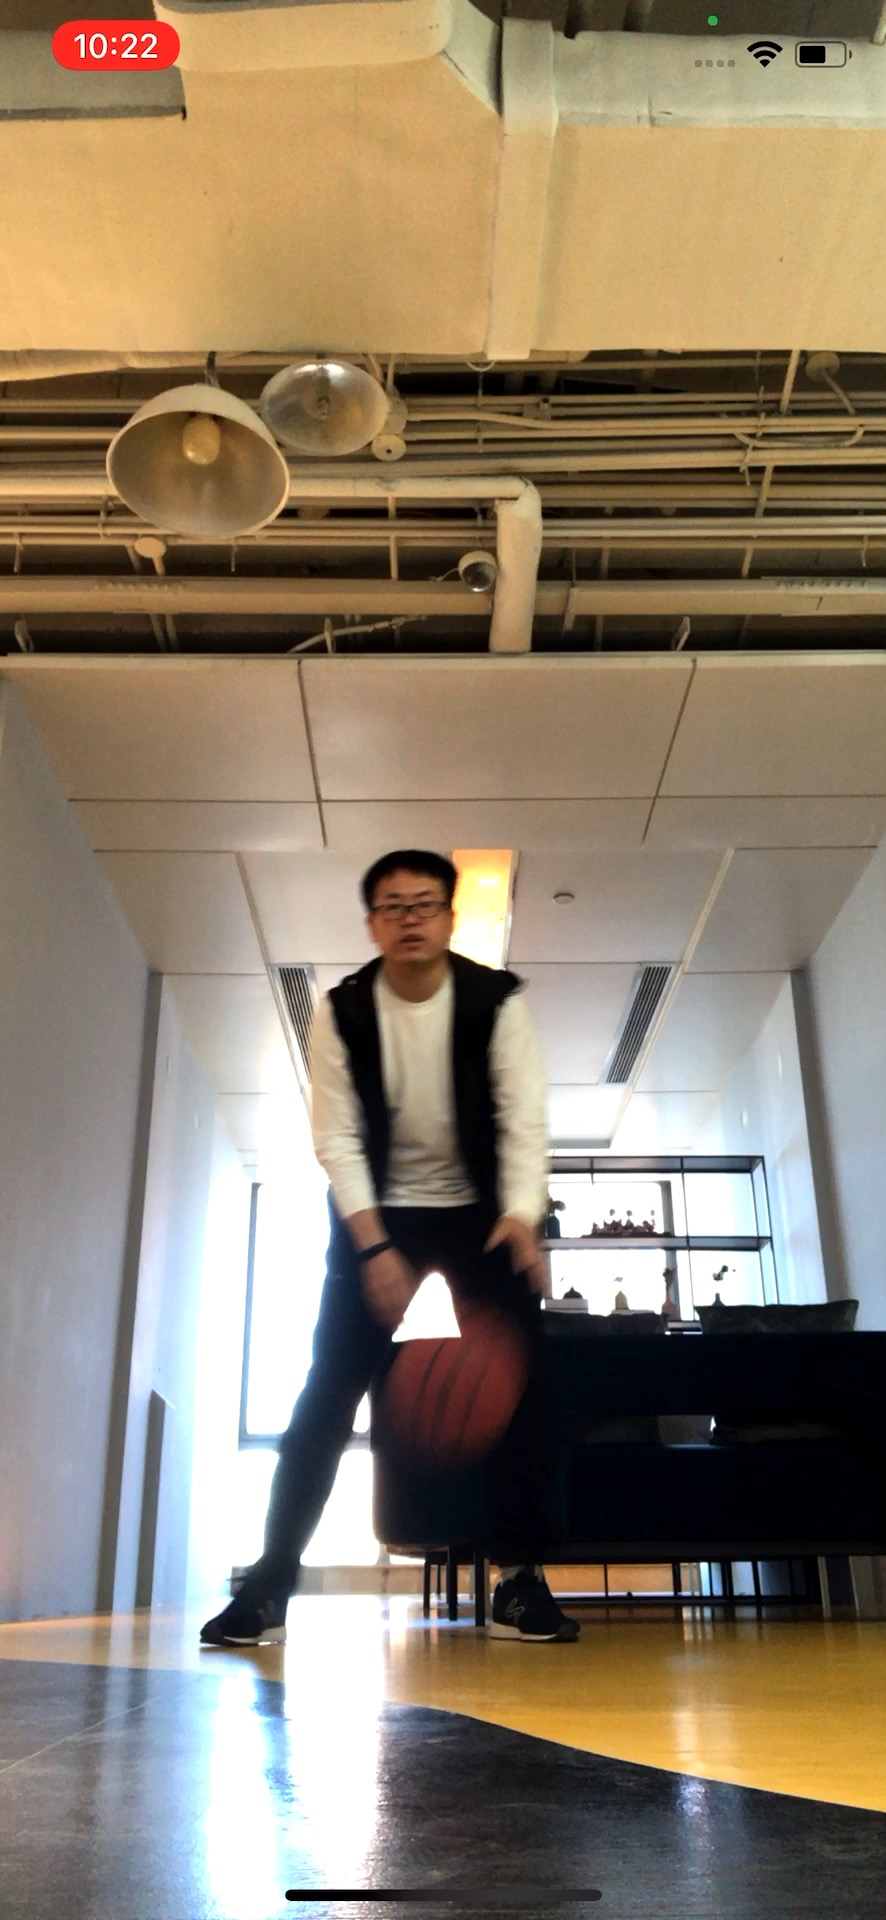ball: (384, 1335, 525, 1447)
